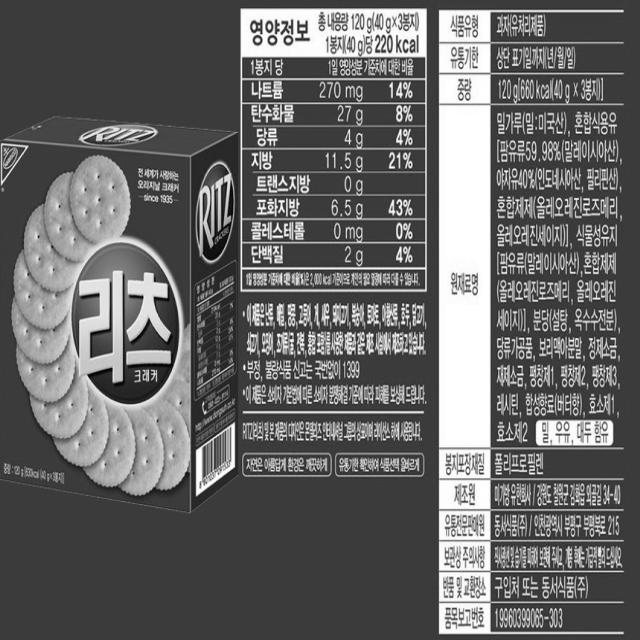Nutrition Label: (232, 2, 432, 301)
